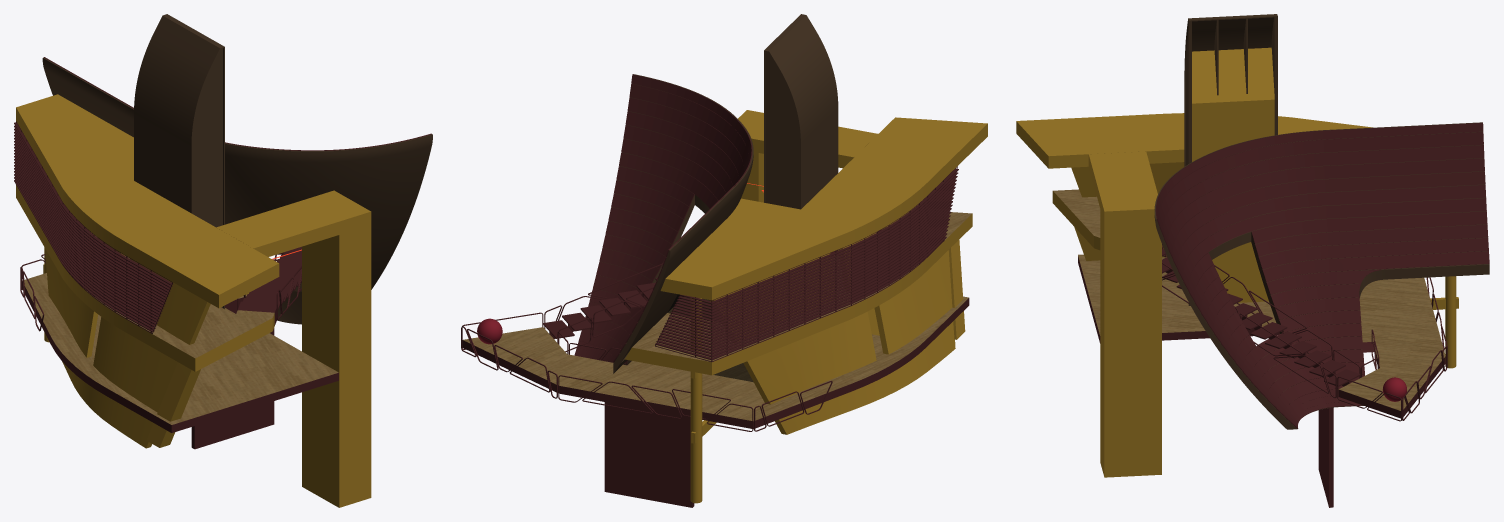
Rendered from mathare.glb.
The picture shows the model from 3 angles, left to right: view 1: azimuth 30°, elevation 25°; view 2: azimuth 150°, elevation 25°; view 3: azimuth 270°, elevation 25°; orthographic projection. The views are drawn at different scales.
Parts seen in each view (by area): view 1: MATHARE, Box023, Line022, Arc017, Group016, Shape002, Box029, Line020, StraightStair001, Group017; view 2: MATHARE, Line022, Shape002, Group016, Arc017, Line020, Box029, Box023, StraightStair001, Cylinder001, Group017; view 3: MATHARE, Box023, Group016, Line022, Arc017, StraightStair001, Box029, Cylinder001, Line020.
Boxes of the visible parts, x1,y1,x2,y2 form: MATHARE: (20, 57, 431, 449); Box023: (216, 190, 371, 507); Line022: (16, 94, 279, 308); Arc017: (42, 57, 432, 324); Group016: (134, 14, 224, 309); Shape002: (14, 122, 172, 331); Box029: (192, 48, 222, 307); Line020: (16, 185, 274, 371); StraightStair001: (238, 246, 301, 325); Group017: (16, 121, 172, 333); MATHARE: (461, 74, 971, 507); Line022: (660, 117, 987, 300); Shape002: (655, 168, 958, 360); Group016: (764, 14, 838, 209); Arc017: (590, 74, 753, 373); Line020: (624, 213, 972, 375); Box029: (765, 52, 799, 209); Box023: (738, 110, 877, 202); StraightStair001: (543, 277, 657, 339); Cylinder001: (690, 298, 702, 503); Group017: (655, 166, 957, 362); MATHARE: (1053, 122, 1489, 507); Box023: (1088, 151, 1161, 477); Group016: (1184, 14, 1277, 305); Line022: (1016, 113, 1372, 168); Arc017: (1154, 122, 1489, 429); StraightStair001: (1162, 249, 1360, 386); Box029: (1186, 17, 1274, 165); Cylinder001: (1445, 276, 1456, 368); Line020: (1052, 191, 1100, 250).
Bounding box in the file's own units: 13.97 × 17.21 × 17.15.
11 materials, 1 textured.
